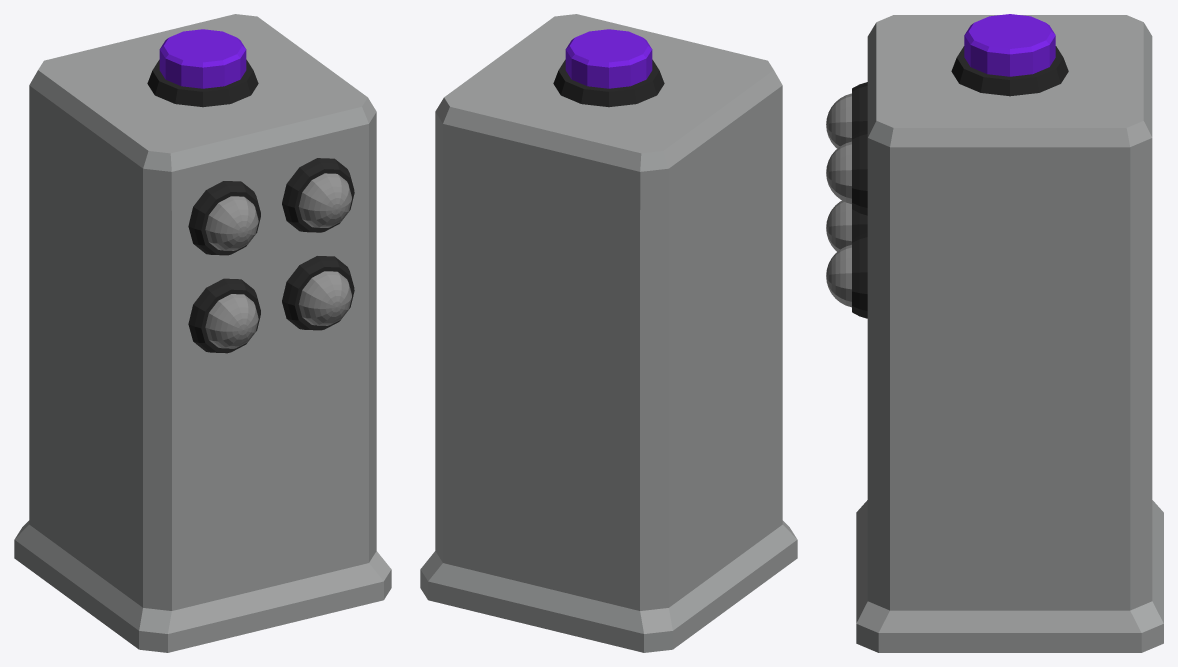
File: Switch.fbx
The picture shows the model from 3 angles, left to right: view 1: azimuth 30°, elevation 25°; view 2: azimuth 150°, elevation 25°; view 3: azimuth 270°, elevation 25°; orthographic projection. The views are drawn at different scales.
Visible parts, largest first — view 1: Switch_Base, Switch_Button, Switch_Button_Base, Sphere.001, Sphere.003, Sphere.004, Sphere.002, Connection_Light_Base, Connection_Light_Base.001, Connection_Light_Base.002, Connection_Light_Base.003; view 2: Switch_Base, Switch_Button, Switch_Button_Base; view 3: Switch_Base, Switch_Button, Switch_Button_Base, Connection_Light_Base.003, Connection_Light_Base.001, Sphere.004, Sphere.002, Sphere.001, Sphere.003, Connection_Light_Base.
Part boxes in pixels (x1,y1,x2,y2): Switch_Base: [14, 14, 391, 652]; Switch_Button: [159, 29, 246, 88]; Switch_Button_Base: [147, 59, 258, 107]; Sphere.001: [205, 196, 258, 250]; Sphere.003: [205, 294, 258, 348]; Sphere.004: [298, 271, 351, 325]; Sphere.002: [298, 173, 351, 227]; Connection_Light_Base: [188, 181, 260, 255]; Connection_Light_Base.001: [282, 158, 354, 232]; Connection_Light_Base.002: [188, 278, 260, 353]; Connection_Light_Base.003: [282, 256, 354, 330]; Switch_Base: [420, 14, 797, 652]; Switch_Button: [565, 29, 652, 88]; Switch_Button_Base: [553, 59, 664, 107]; Switch_Base: [856, 15, 1163, 652]; Switch_Button: [964, 14, 1055, 76]; Switch_Button_Base: [951, 46, 1068, 96]; Connection_Light_Base.003: [852, 233, 867, 318]; Connection_Light_Base.001: [852, 130, 867, 215]; Sphere.004: [826, 244, 851, 307]; Sphere.002: [826, 141, 851, 203]; Sphere.001: [826, 93, 851, 148]; Sphere.003: [826, 200, 851, 251]; Connection_Light_Base: [852, 82, 867, 136].
Size of the model in its own units: 216 by 432 by 237.
